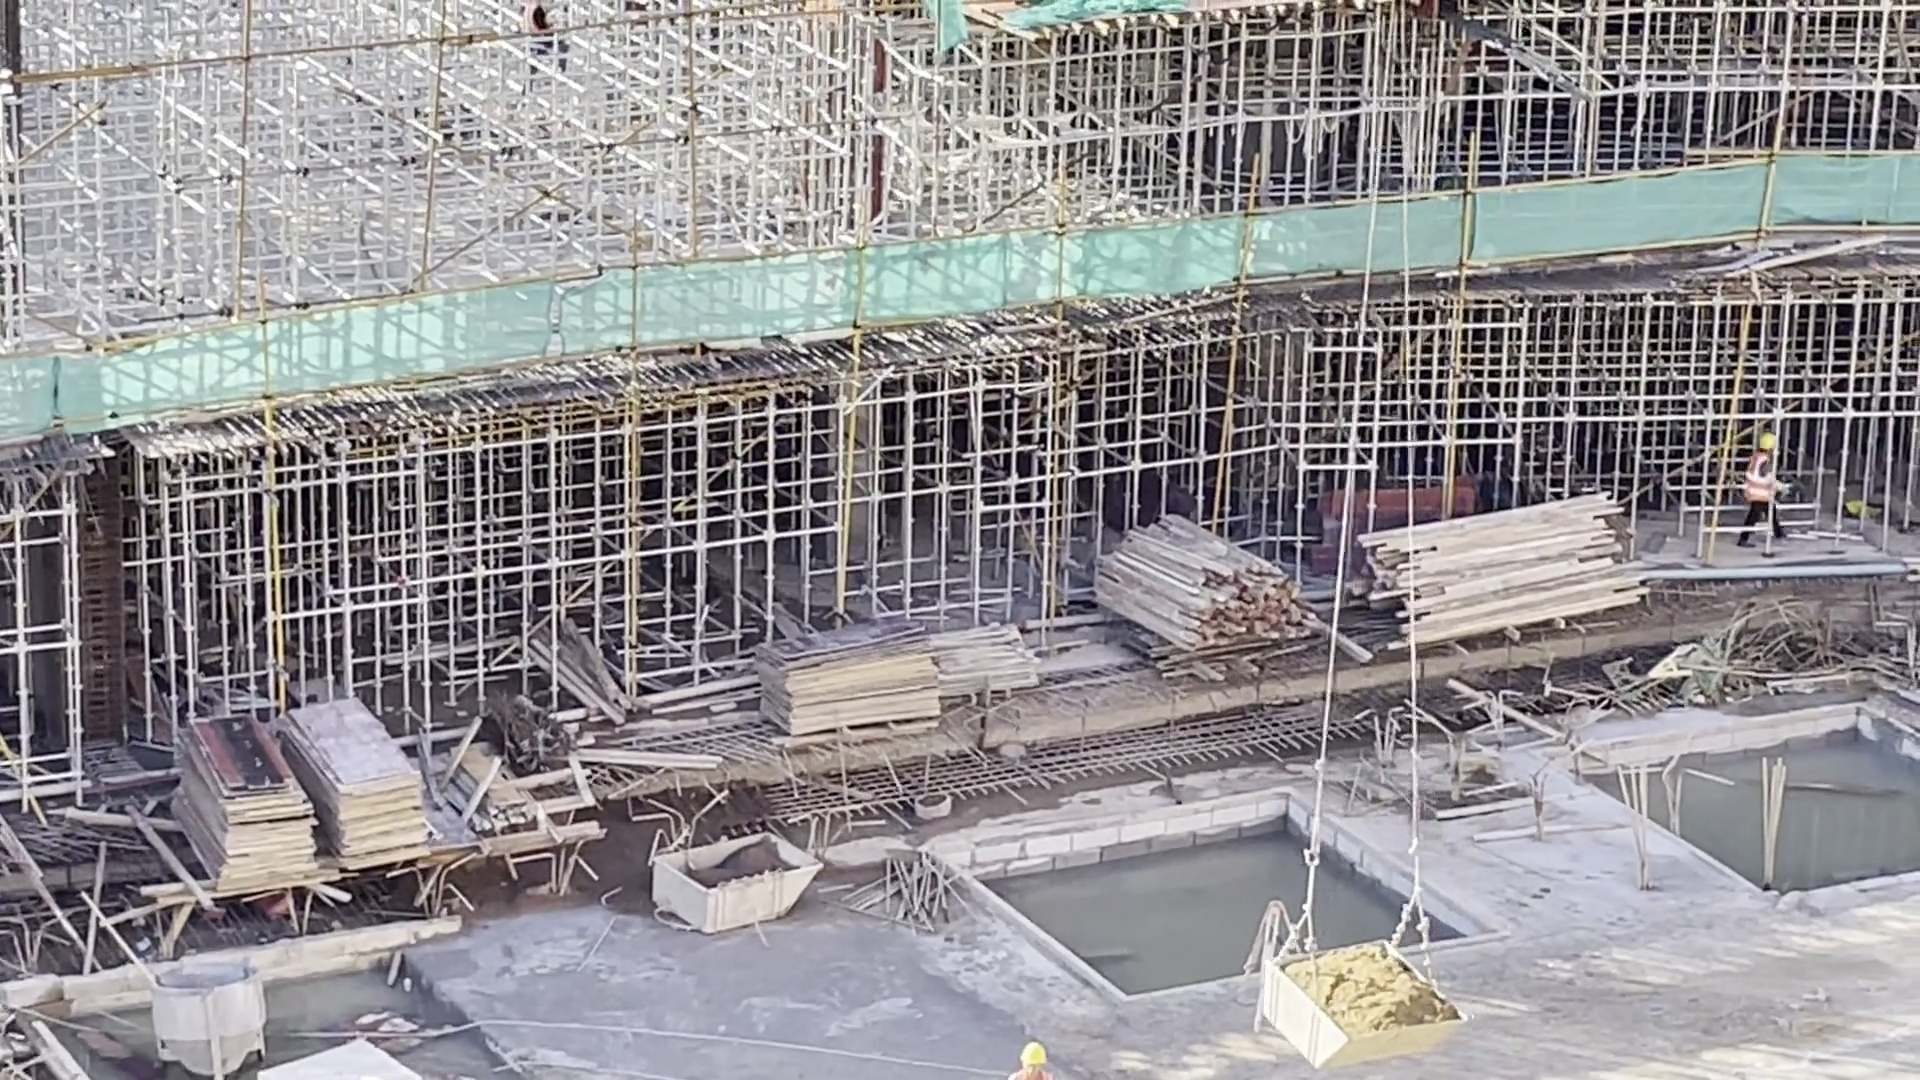board: (163, 711, 325, 900), (275, 691, 437, 874), (743, 617, 947, 745)
brick: (258, 1024, 414, 1080)
helmet: (1022, 1043, 1052, 1064), (1760, 431, 1776, 451)
hopper: (1252, 937, 1471, 1074), (651, 824, 829, 938), (144, 954, 271, 1078)
person: (991, 1035, 1064, 1080), (1741, 431, 1770, 530)
vest: (1744, 453, 1771, 505)
wood: (1351, 491, 1644, 652), (1089, 508, 1322, 660)
